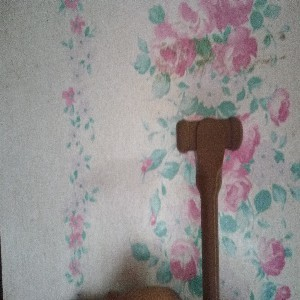palu: (176, 114, 244, 300)
